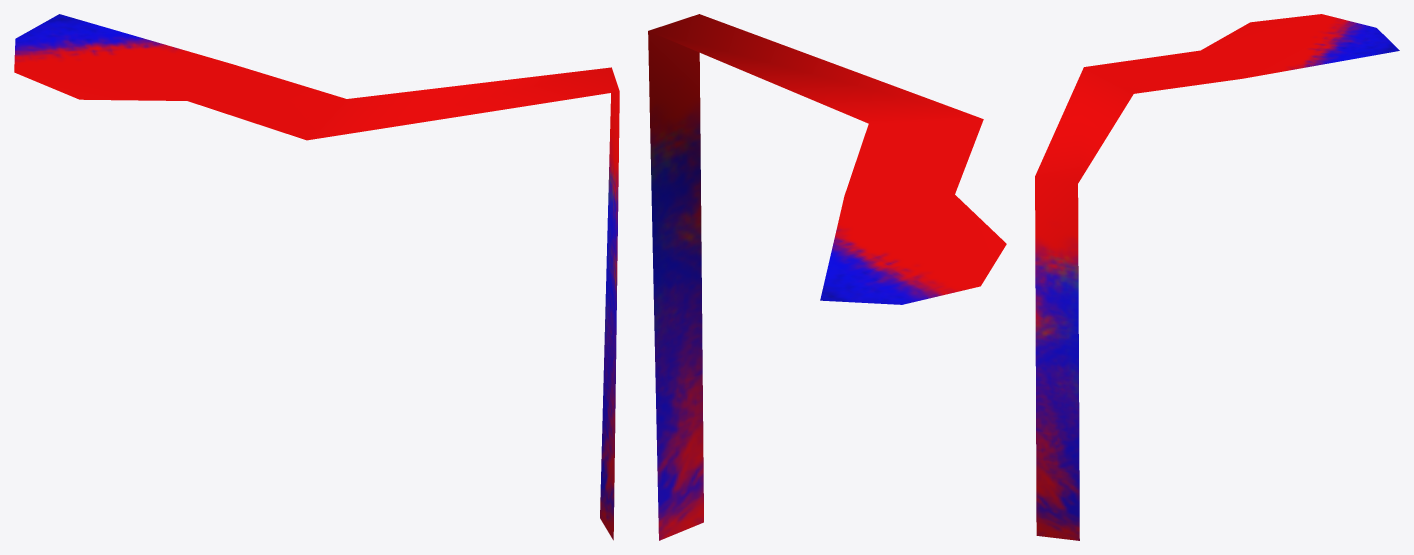
Rendered from water.FBX.
3 renders of one model, left to right at view 1: azimuth 30°, elevation 25°; view 2: azimuth 150°, elevation 25°; view 3: azimuth 270°, elevation 25°, orthographic. The views are drawn at different scales.
Visible parts, largest first — view 1: Object001; view 2: Object001; view 3: Object001.
Boxes of the visible parts, x1,y1,x2,y2 form: Object001: (14, 14, 619, 540); Object001: (648, 14, 1006, 540); Object001: (1035, 14, 1399, 540).
Size of the model in its own units: 576 by 553 by 506.
